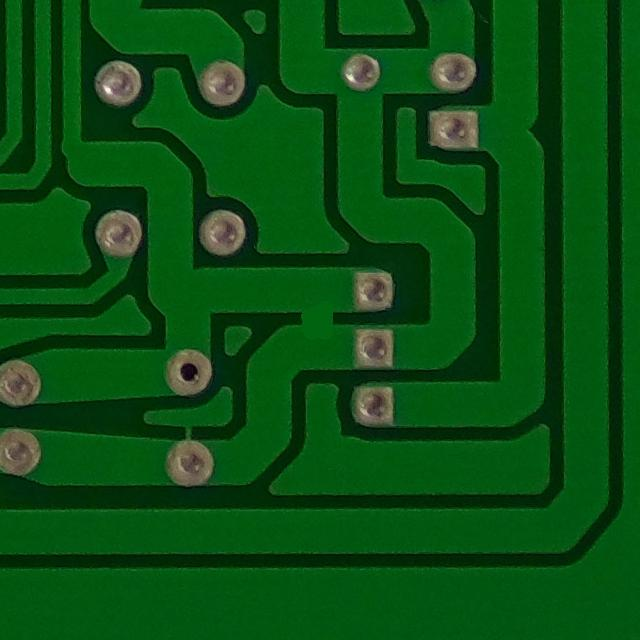short: (290, 288, 351, 353)
